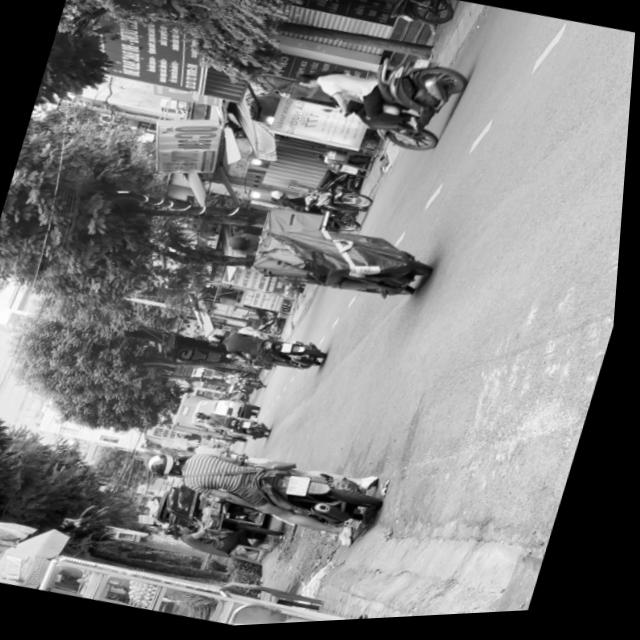helmet: (150, 450, 194, 483)
licenseplate: (137, 423, 399, 556), (270, 28, 477, 172), (213, 202, 444, 321)
motorcyclist: (225, 229, 267, 261), (290, 66, 333, 95)
nohelmet: (292, 477, 317, 500)
